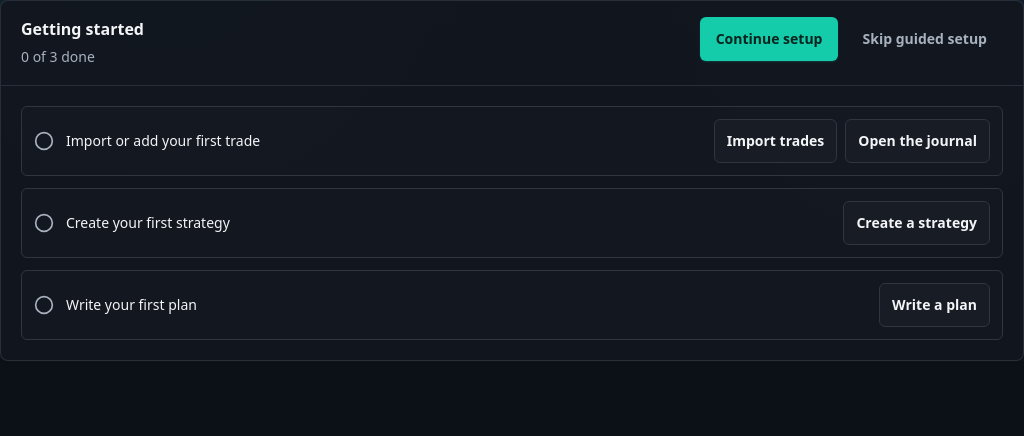
Scenario: SetupChecklist for someone who has not finished the first run › says so, and stays as it was, when the dismissal cannot be saved
The width and height of the screenshot is (1024, 436).
Check: the heading "Getting started" is shown, box [21,17,144,41]
Click the button "Skip guided setup": (925, 39) [846,17,1003,61]
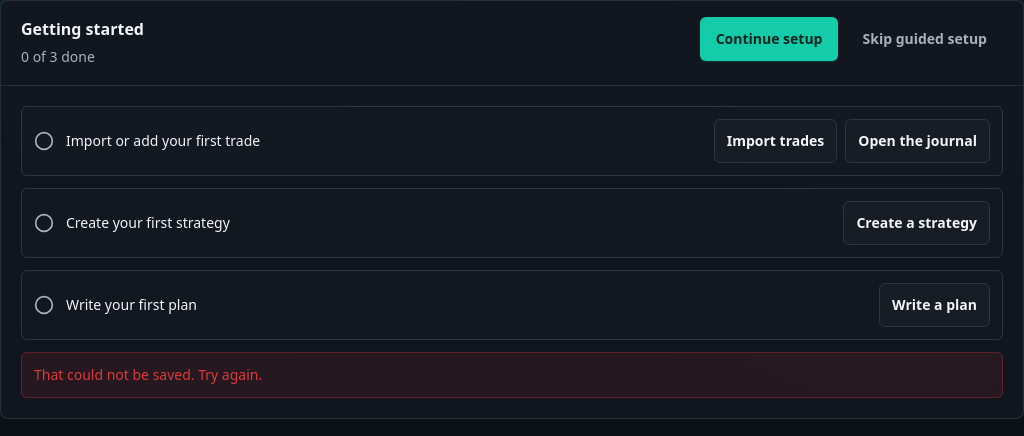
Check: the link "Continue setup" is shown, box [700,17,838,61]
Check: the message reads "That could not be saved. Try again.", box [34,365,262,384]
